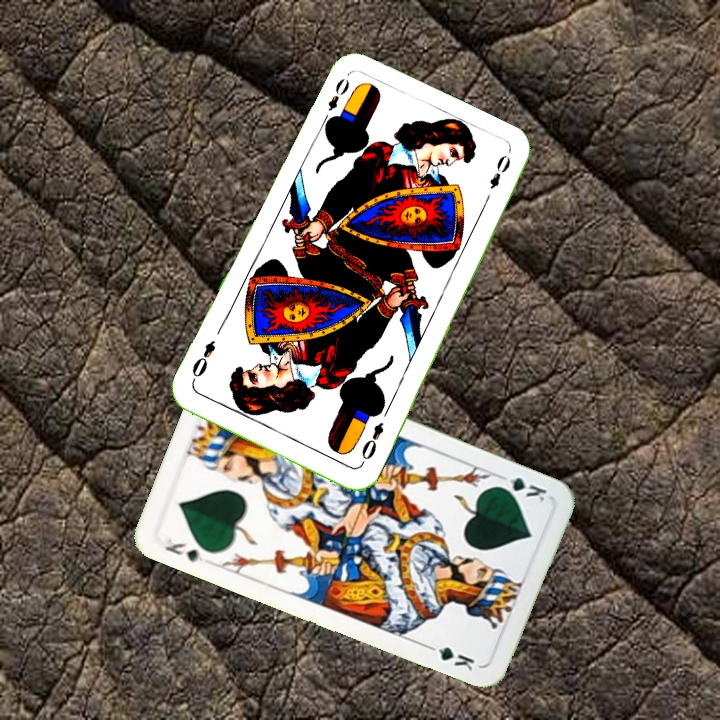EO: (318, 74, 352, 128), (356, 418, 387, 468)
GK: (492, 470, 550, 505), (161, 534, 206, 565)
